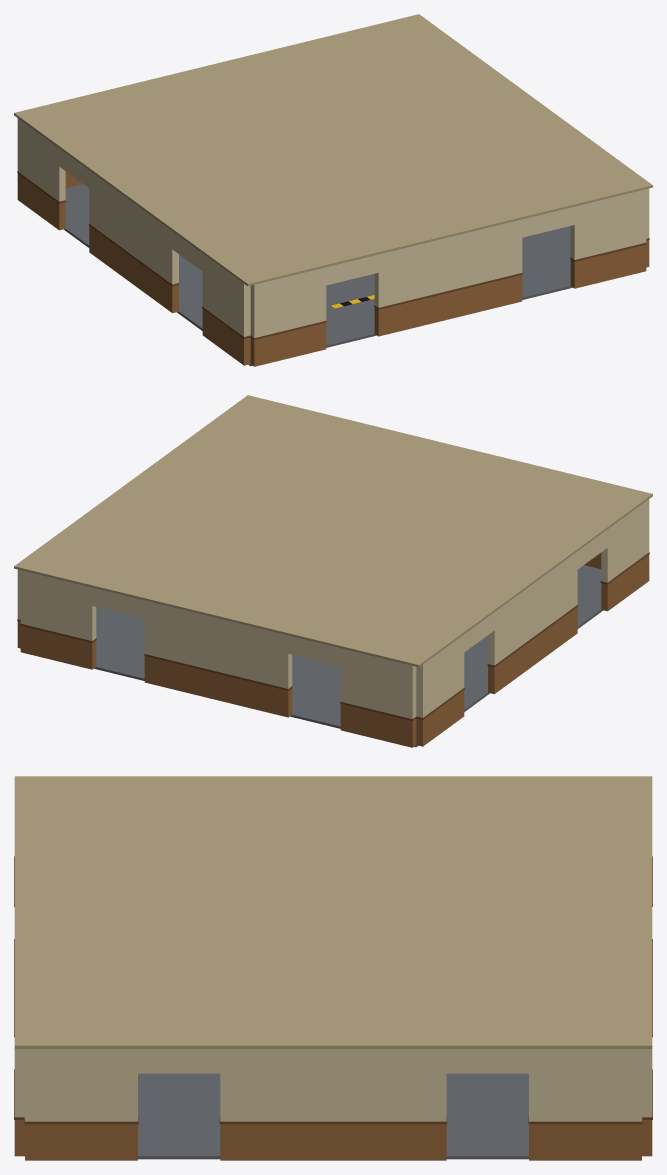
The model's file is room_robotics_test_bay.glb.
3 renders of one model, top to bottom at view 1: azimuth 30°, elevation 25°; view 2: azimuth 150°, elevation 25°; view 3: azimuth 270°, elevation 25°, orthographic. The views are drawn at different scales.
Visible parts, largest first — view 1: room_robotics_test_bay; view 2: room_robotics_test_bay; view 3: room_robotics_test_bay.
Boxes of the visible parts, x1=… form: room_robotics_test_bay: x1=14, y1=14, x2=652, y2=366; room_robotics_test_bay: x1=14, y1=395, x2=652, y2=747; room_robotics_test_bay: x1=14, y1=776, x2=652, y2=1160.
Size of the model in its own units: 18.62 by 3.8 by 18.64.
1 material, 1 textured.
